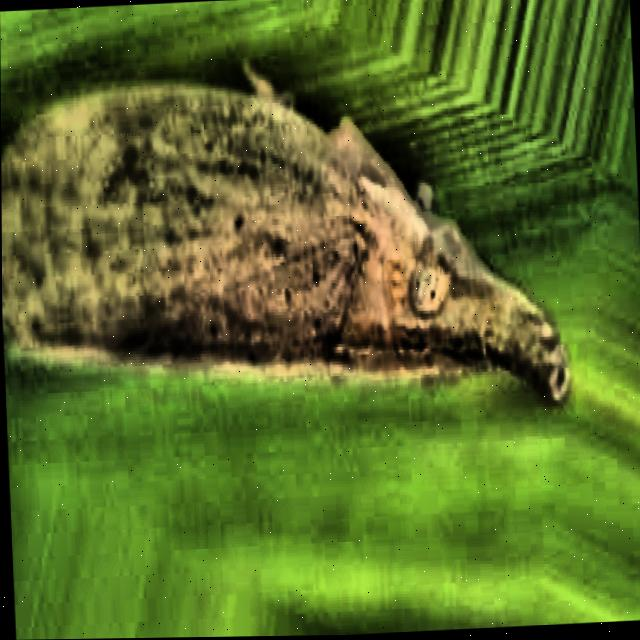Pyrilla-perpusilla: (0, 21, 581, 450)
